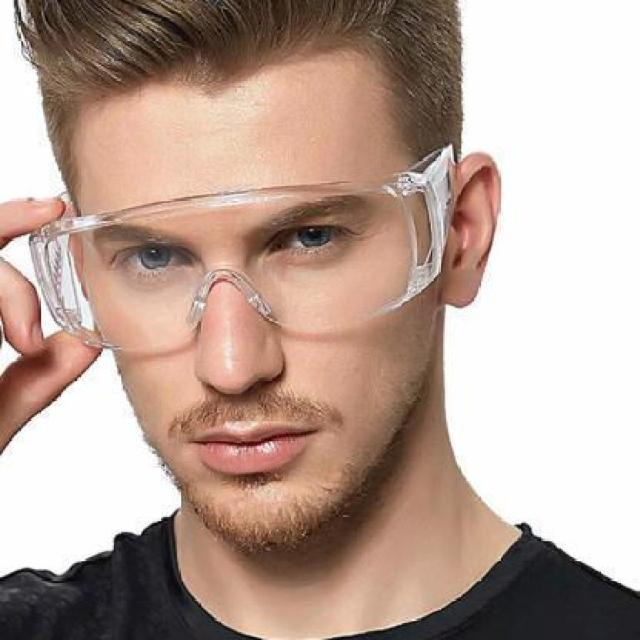face_nomask: (103, 203, 374, 488)
glasses: (29, 164, 456, 358)
